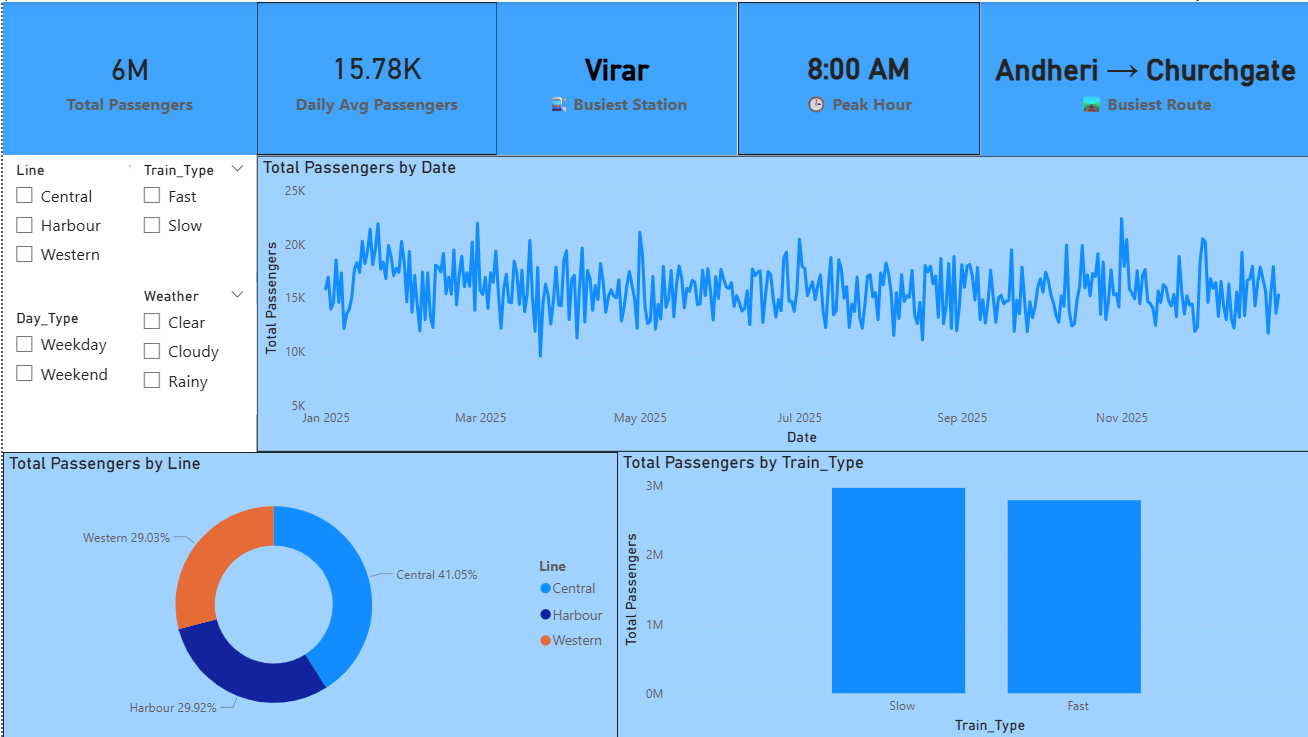

This screenshot's page, from the dashboard's own definition file:
{"tool":"powerbi","page":{"name":"Page 1","canvas":[1280,720],"ordinal":0},"visuals":[{"type":"card","fields":{"Values":["Mumbai_Local_Data.Daily Avg Passengers"]},"box":[248,0,235.4,149.8],"z":0},{"type":"card","fields":{"Values":["Mumbai_Local_Data.Peak Hour Passengers"]},"box":[718.8,0,236.7,149.8],"z":1000},{"type":"card","fields":{"Values":["Mumbai_Local_Data.Total Passengers"]},"box":[0,0,248,149.8],"z":2000},{"type":"card","fields":{"Values":["Mumbai_Local_Data.Passengers By Station"]},"box":[483.4,0,235.4,149.8],"z":3000},{"type":"lineChart","fields":{"Y":["Mumbai_Local_Data.Total Passengers"],"Category":["Mumbai_Local_Data.Date"]},"box":[248.2,150.4,1032.1,289.8],"z":4000},{"type":"donutChart","fields":{"Y":["Mumbai_Local_Data.Total Passengers"],"Category":["Mumbai_Local_Data.Line"]},"box":[0,440.2,601.6,280],"z":5000},{"type":"clusteredColumnChart","fields":{"Category":["Mumbai_Local_Data.Train_Type"],"Y":["Mumbai_Local_Data.Total Passengers"]},"box":[601.6,440.2,678.7,280],"z":6000},{"type":"card","fields":{"Values":["Min(Mumbai_Local_Data.Route)"]},"box":[956.3,0,324.1,150.4],"z":7000},{"type":"slicer","fields":{"Values":["Mumbai_Local_Data.Line"]},"box":[0,150.4,148,135.7],"z":8000},{"type":"slicer","fields":{"Values":["Mumbai_Local_Data.Train_Type"]},"box":[124.7,150.4,123.5,113.7],"z":9000},{"type":"slicer","fields":{"Values":["Mumbai_Local_Data.Day_Type"]},"box":[0,295.9,248.2,107.6],"z":10000},{"type":"slicer","fields":{"Values":["Mumbai_Local_Data.Weather"]},"box":[124.7,273.9,123.5,129.6],"z":11000}]}

Visuals, with their boxes in screenshot pixels (x1, y1, x2, y2), scaled from the page's 1280x720 canvas onto the 1308x737 screenshot:
card - Mumbai_Local_Data.Daily Avg Passengers: bbox=[253, 0, 494, 153]
card - Mumbai_Local_Data.Peak Hour Passengers: bbox=[735, 0, 976, 153]
card - Mumbai_Local_Data.Total Passengers: bbox=[0, 0, 253, 153]
card - Mumbai_Local_Data.Passengers By Station: bbox=[494, 0, 735, 153]
lineChart - Mumbai_Local_Data.Total Passengers x Mumbai_Local_Data.Date: bbox=[254, 154, 1307, 451]
donutChart - Mumbai_Local_Data.Total Passengers x Mumbai_Local_Data.Line: bbox=[0, 451, 615, 736]
clusteredColumnChart - Mumbai_Local_Data.Train_Type x Mumbai_Local_Data.Total Passengers: bbox=[615, 451, 1307, 736]
card - Min(Mumbai_Local_Data.Route): bbox=[977, 0, 1307, 154]
slicer - Mumbai_Local_Data.Line: bbox=[0, 154, 151, 293]
slicer - Mumbai_Local_Data.Train_Type: bbox=[127, 154, 254, 270]
slicer - Mumbai_Local_Data.Day_Type: bbox=[0, 303, 254, 413]
slicer - Mumbai_Local_Data.Weather: bbox=[127, 280, 254, 413]
